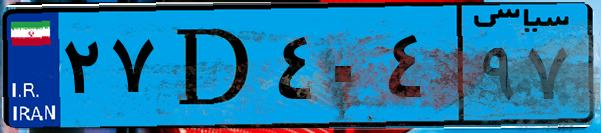0: (330, 28, 385, 110)
2: (57, 26, 110, 100)
4: (270, 28, 330, 110), (385, 28, 445, 110)
7: (525, 38, 570, 115), (110, 28, 158, 98)
9: (475, 38, 525, 113)
D: (158, 12, 270, 120)
